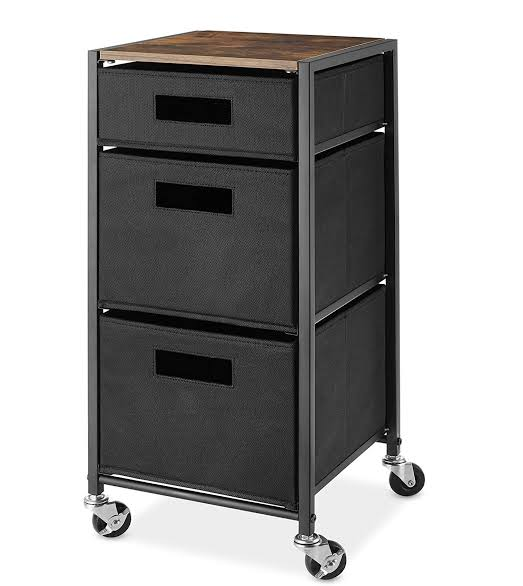Carts: (80, 26, 429, 584)
